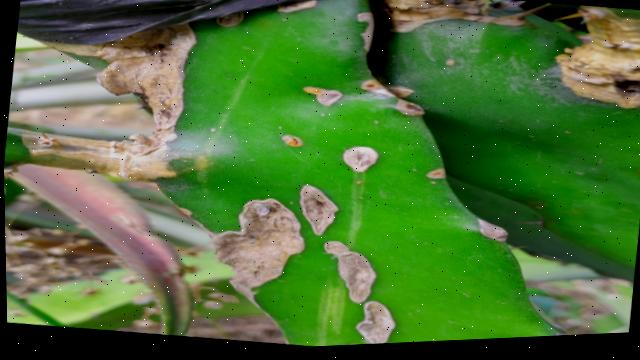stemcanker: (303, 80, 350, 111), (279, 131, 305, 150)
